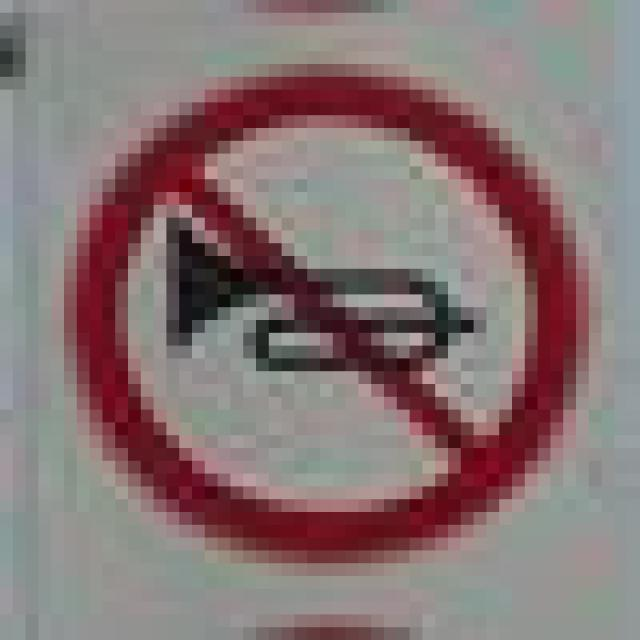horn prohibited: (61, 60, 593, 558)
